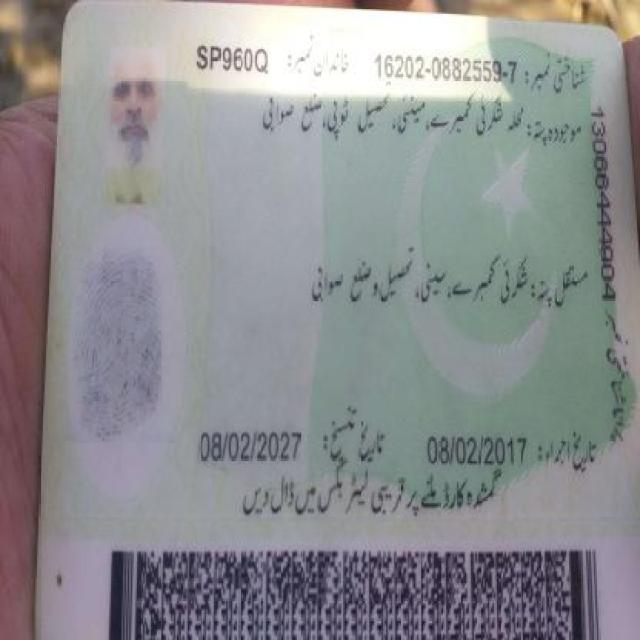Back: (52, 6, 636, 634)
